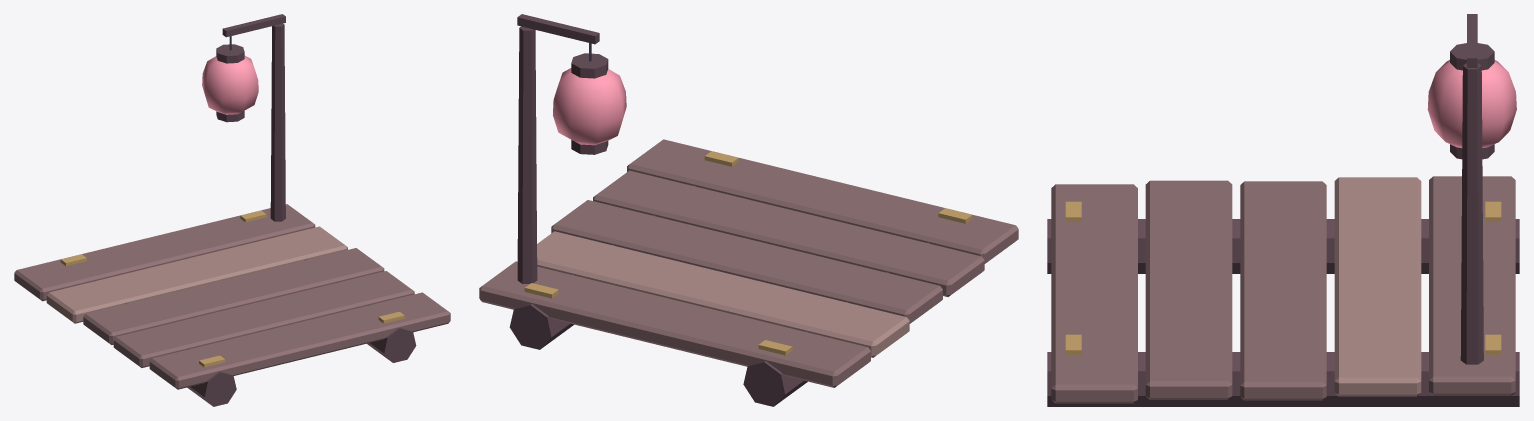
The model's file is lantern_raft.glb.
3 renders of one model, left to right at view 1: azimuth 30°, elevation 25°; view 2: azimuth 150°, elevation 25°; view 3: azimuth 270°, elevation 25°, orthographic. The views are drawn at different scales.
Parts seen in each view (by area): view 1: lantern_raft; view 2: lantern_raft; view 3: lantern_raft.
Part boxes in pixels (box(x1,y1,x2,y2)): lantern_raft: box(14, 14, 450, 406); lantern_raft: box(479, 14, 1018, 406); lantern_raft: box(1047, 14, 1519, 406).
Bounding box in the file's own units: 0.9564 × 0.7596 × 0.9.
